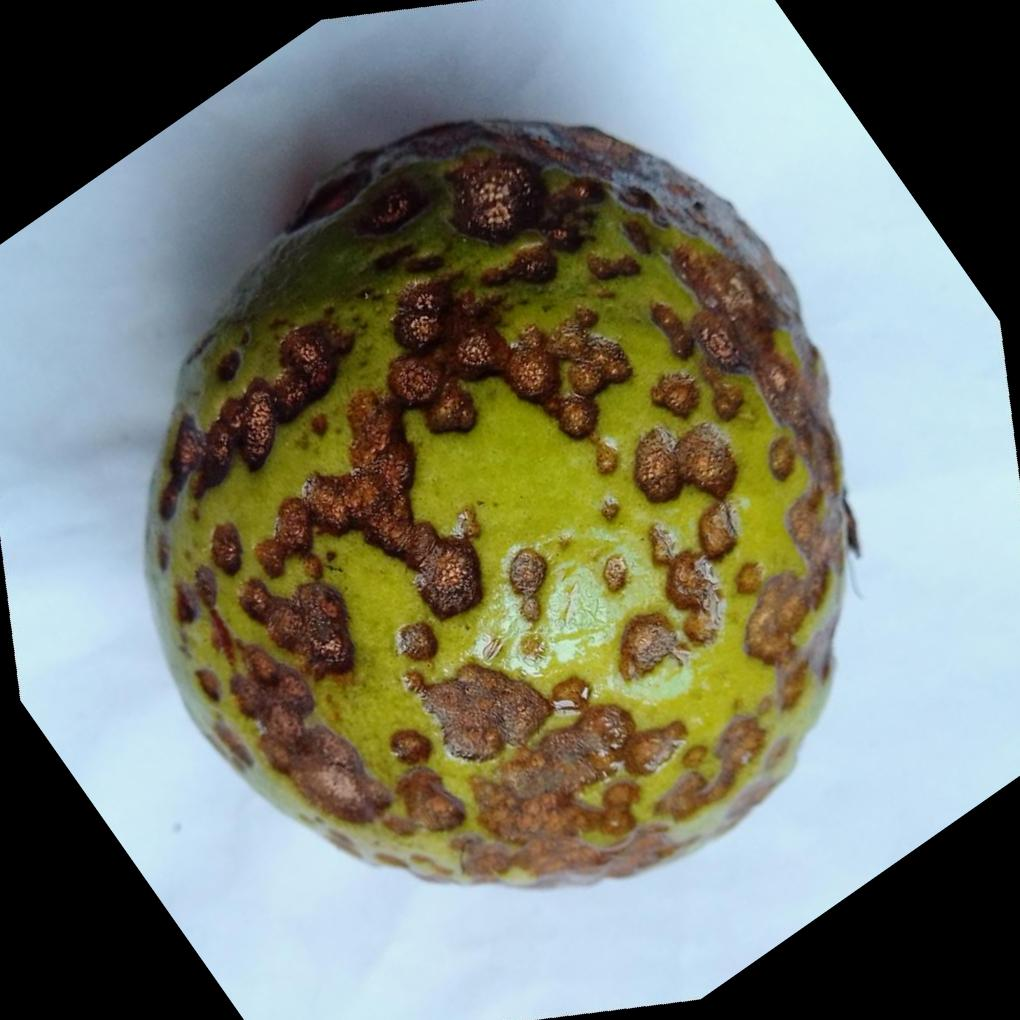FreshOrange: (142, 119, 862, 896)
